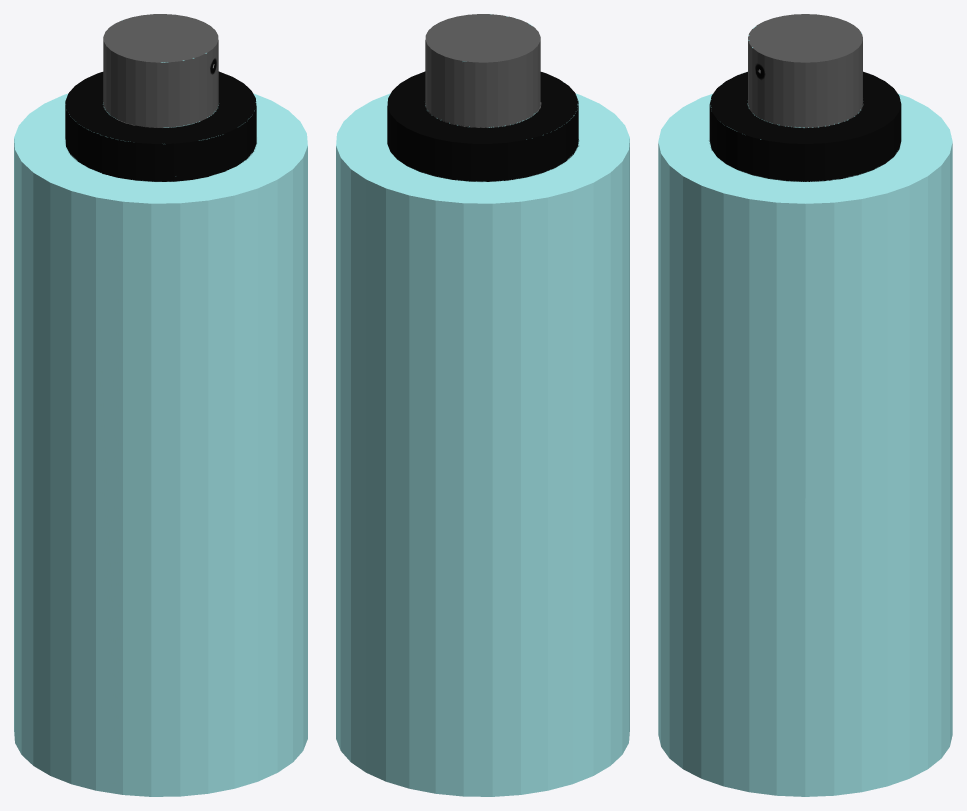
File: SoapBottle.fbx
3 views of the same model, side by side, from view 1: azimuth 30°, elevation 25°; view 2: azimuth 150°, elevation 25°; view 3: azimuth 270°, elevation 25° (orthographic).
Visible parts, largest first — view 1: Cylinder; view 2: Cylinder; view 3: Cylinder.
Boxes of the visible parts, box(x1,y1,x2,y2) form: Cylinder: box(14, 14, 307, 796); Cylinder: box(336, 14, 629, 796); Cylinder: box(658, 14, 952, 796).
Bounding box in the file's own units: 200 × 522 × 200.
